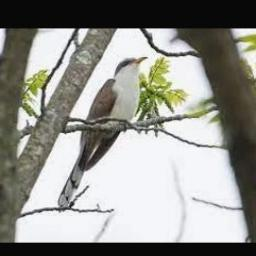Cuckoo: (58, 56, 150, 207)
